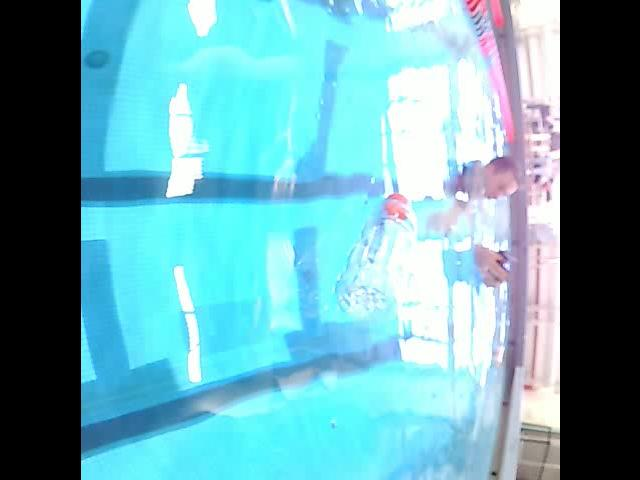Bottle: (331, 190, 413, 324)
